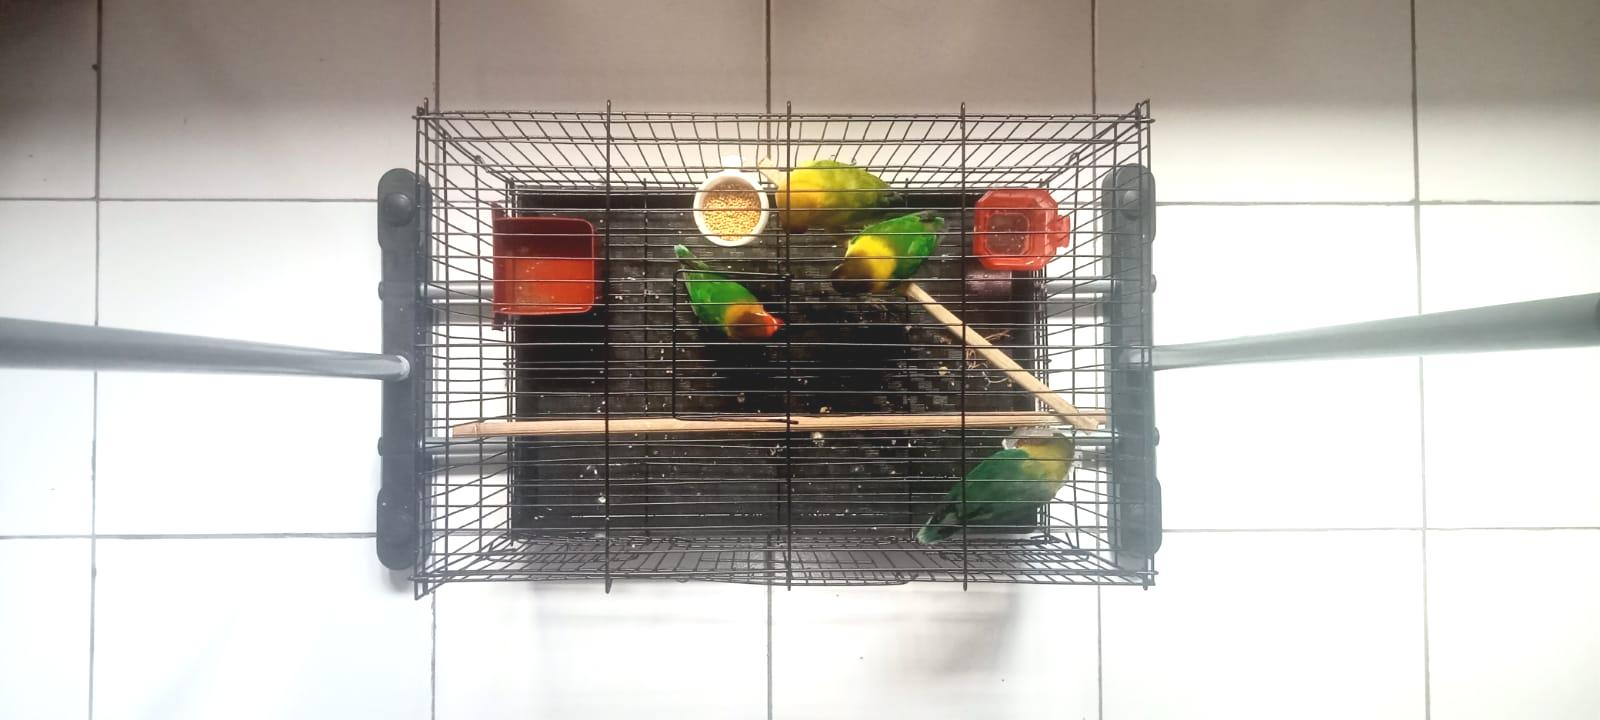LoveBird: (917, 431, 1074, 545), (676, 245, 784, 344), (831, 211, 951, 295), (774, 160, 904, 235)
